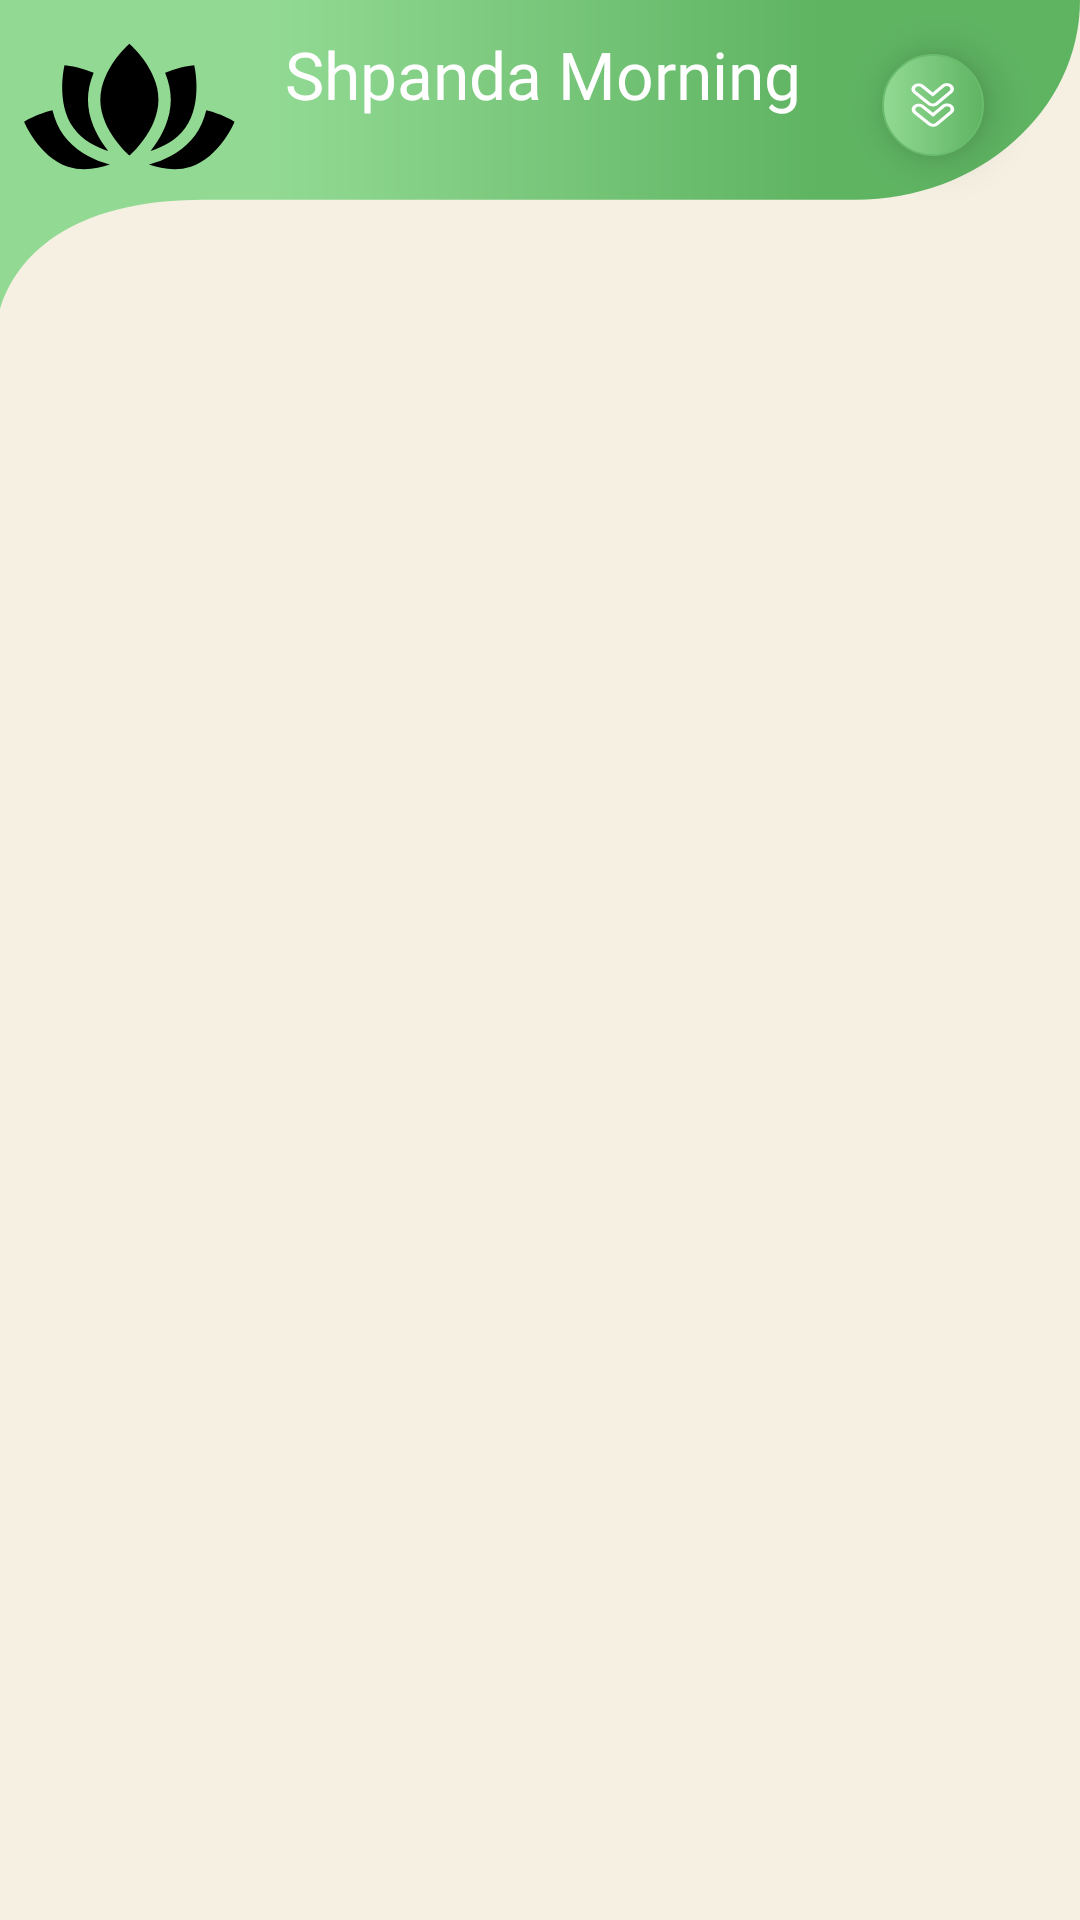

Icon bounding boxes for this 1080×1920 phone screenshot, format box(x1, y1, x2, y2):
arroy down: box(884, 56, 955, 154)
